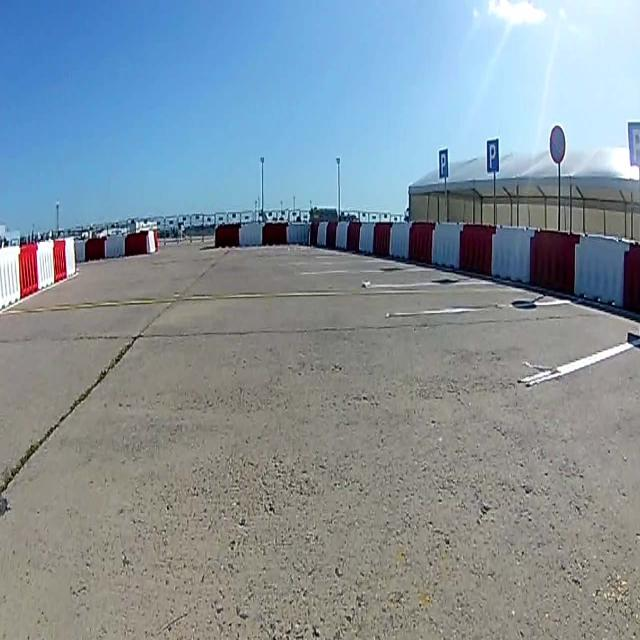park: (628, 121, 640, 166), (487, 138, 499, 171), (439, 148, 448, 178)
parkyasak: (549, 124, 566, 162)
